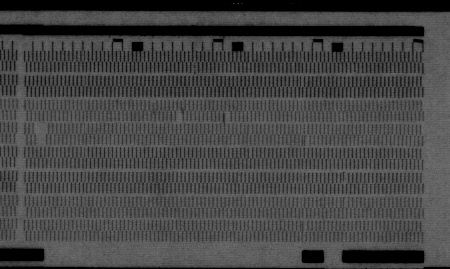Broken hole: (33, 123, 50, 146), (222, 112, 235, 123), (174, 110, 184, 123)
Oblique printing: (188, 61, 202, 78), (301, 135, 313, 148), (298, 220, 310, 233), (339, 171, 350, 184)
